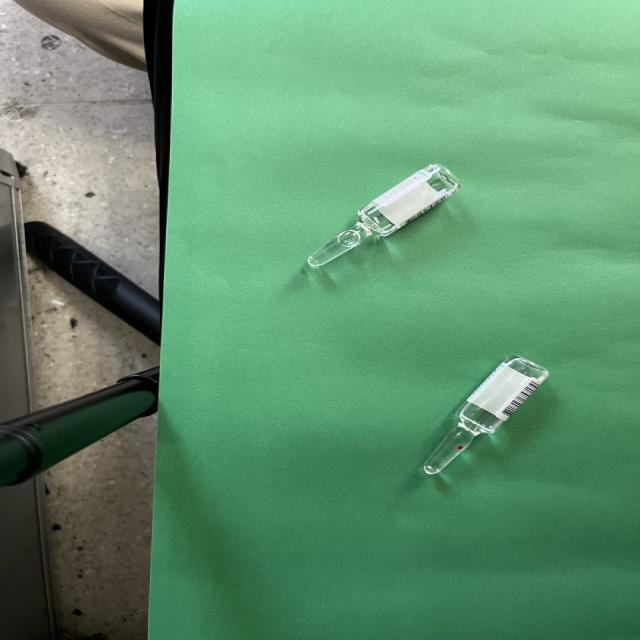Ampoules: (306, 164, 459, 270), (423, 355, 548, 475)
